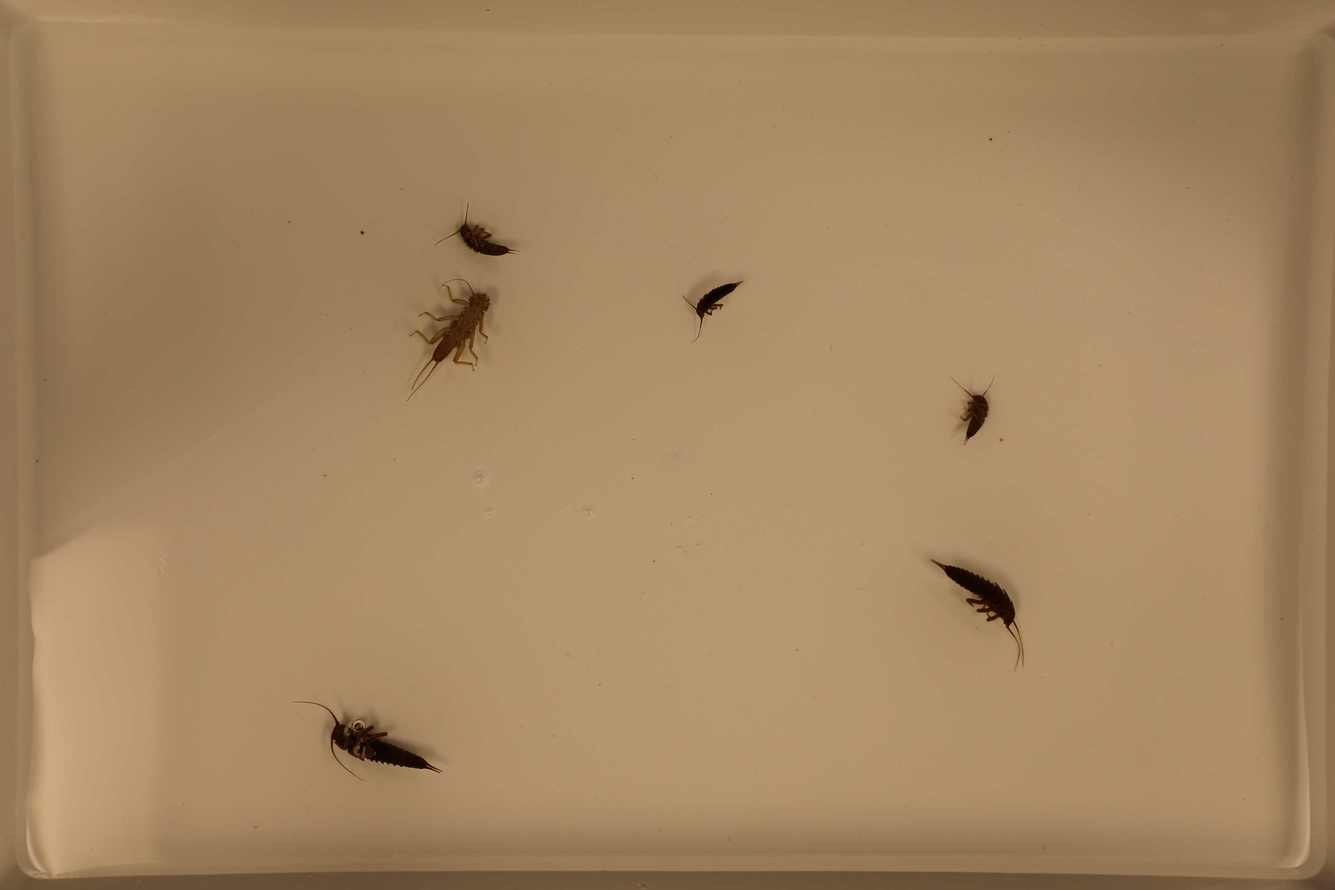Stonefly: (294, 698, 438, 783), (930, 556, 1032, 672), (408, 276, 497, 395), (680, 279, 745, 348), (434, 206, 512, 258), (948, 370, 1001, 446)
